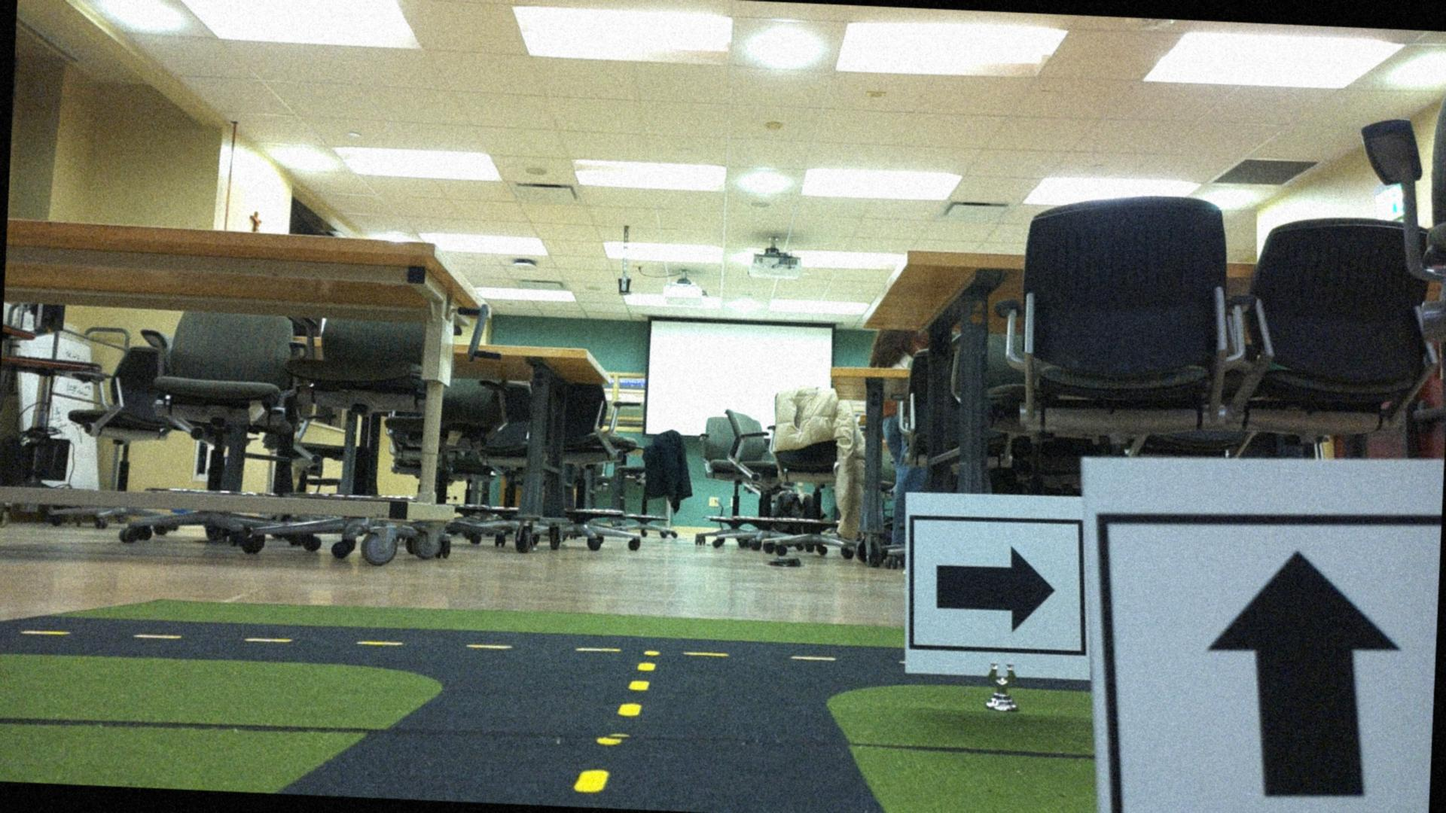gostraight: (1093, 456, 1441, 812)
turnleft: (905, 497, 1084, 684)
yellowline: (578, 659, 654, 796)
